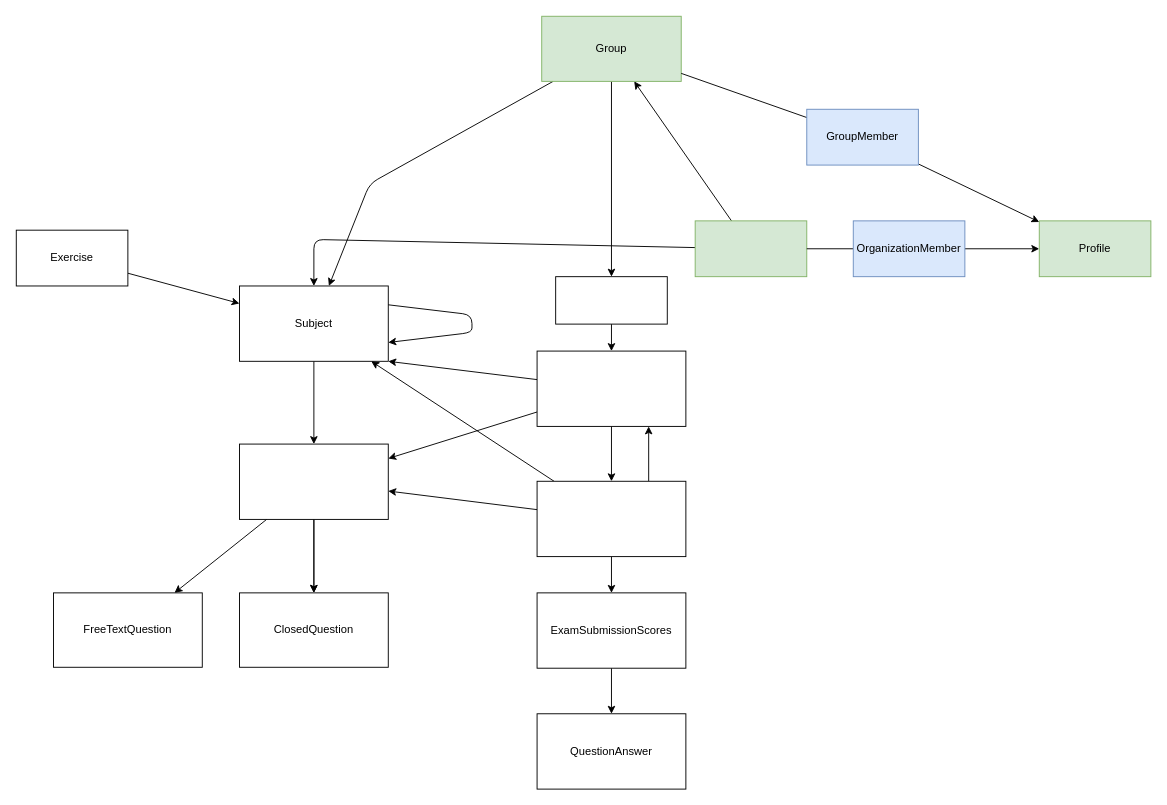
This 1167x805 diagram has some shape labels left out. Here are the shapes that lost their labels. From the top down, the centre of each, then its label:
point (750, 248): Organization
point (611, 300): ScheduledExam
point (611, 388): Exam
point (313, 481): Question
point (611, 518): ExamSubmission
